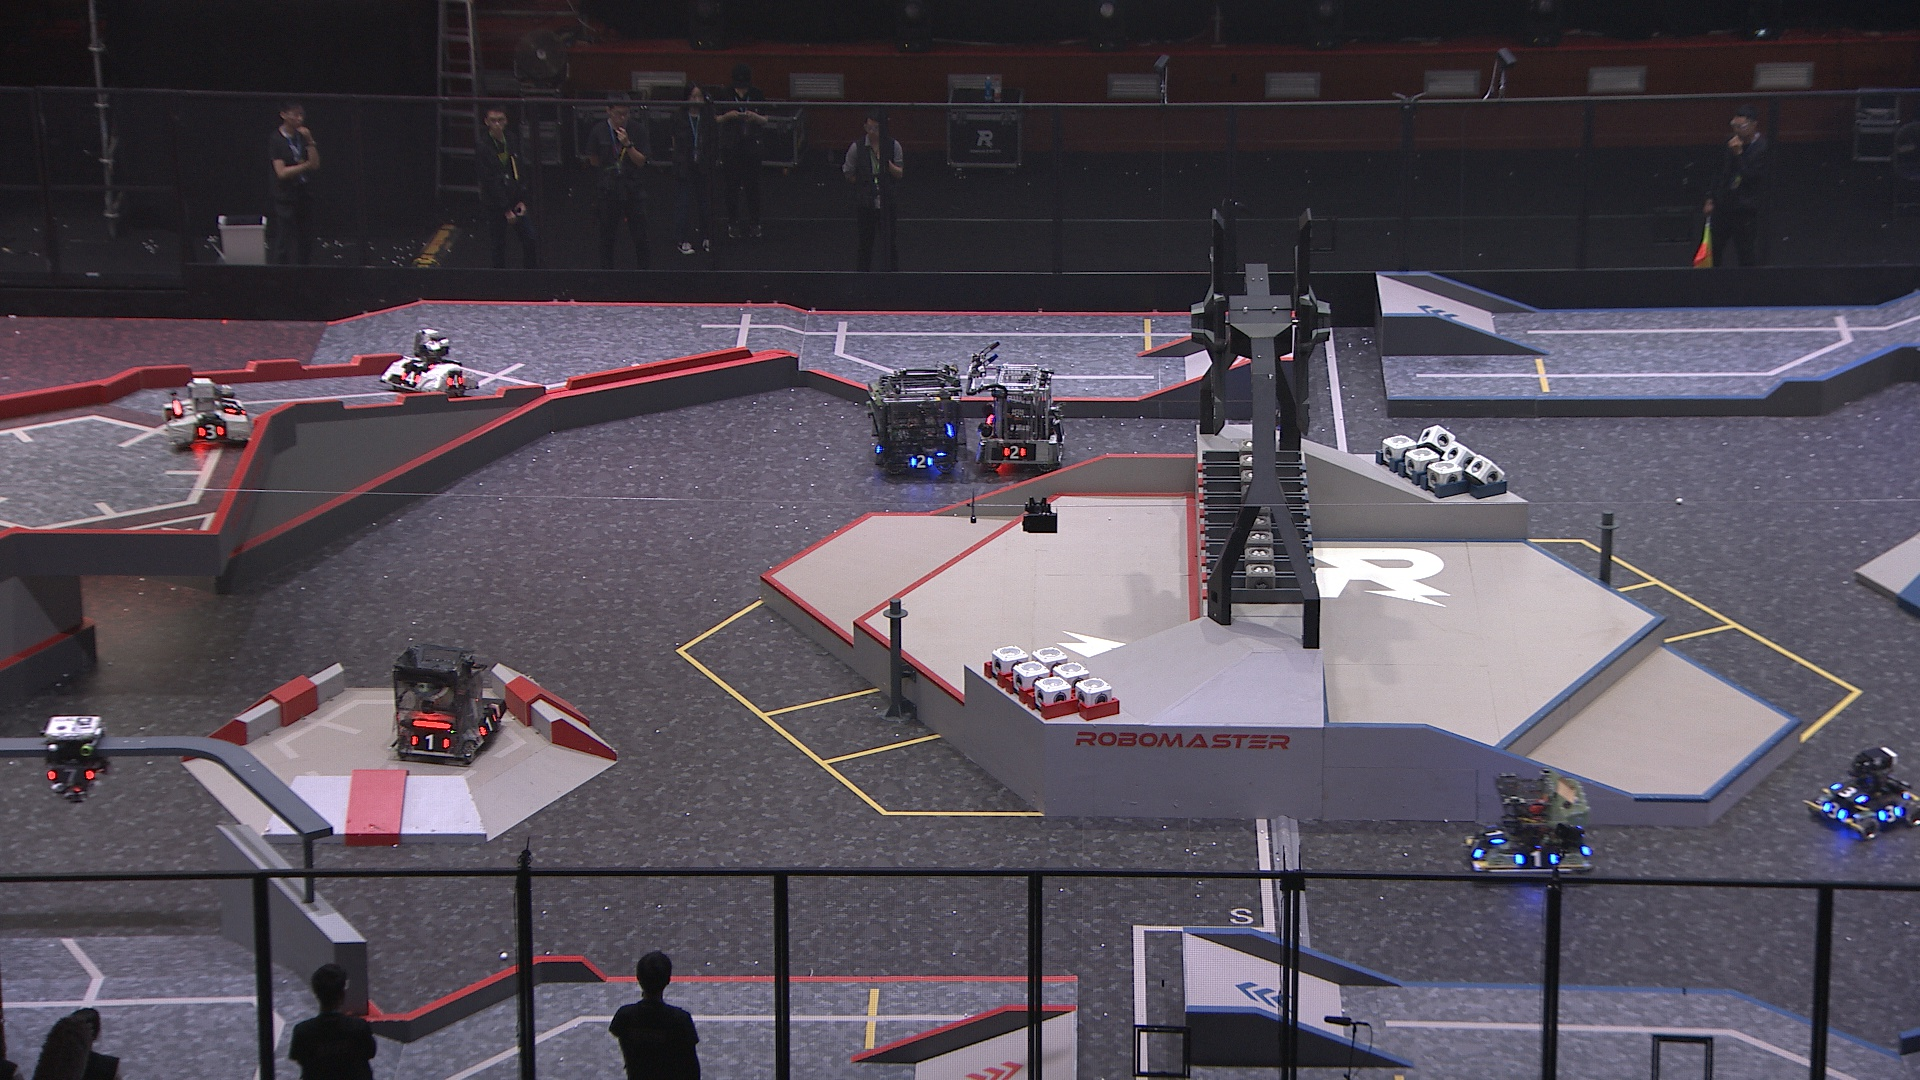armor: (44, 765, 96, 785), (1513, 847, 1557, 869), (409, 731, 448, 752), (1830, 782, 1866, 803), (1481, 823, 1509, 845), (1466, 833, 1486, 862), (476, 712, 498, 737), (1822, 802, 1847, 823), (195, 423, 225, 440), (1000, 443, 1027, 462), (909, 452, 935, 471), (1878, 803, 1902, 823), (407, 356, 438, 371), (443, 371, 467, 389), (400, 368, 423, 385), (220, 396, 240, 415)
car: (1462, 767, 1600, 887), (389, 644, 509, 766), (968, 361, 1068, 475), (1803, 745, 1920, 840), (868, 367, 963, 480), (378, 330, 477, 401), (162, 377, 249, 452)
watcher: (40, 713, 112, 806)
